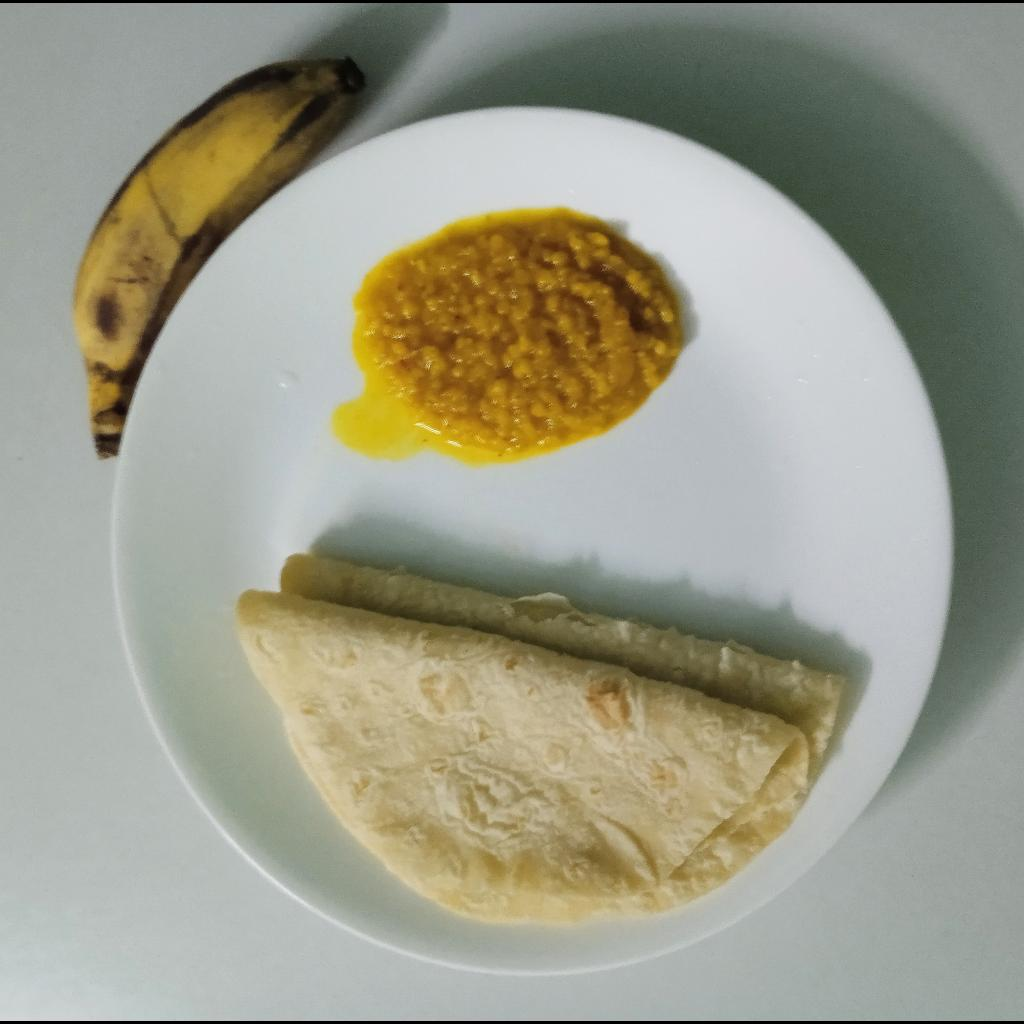banana: (74, 59, 368, 459)
daal: (365, 216, 683, 453)
ruti: (234, 555, 851, 923)
